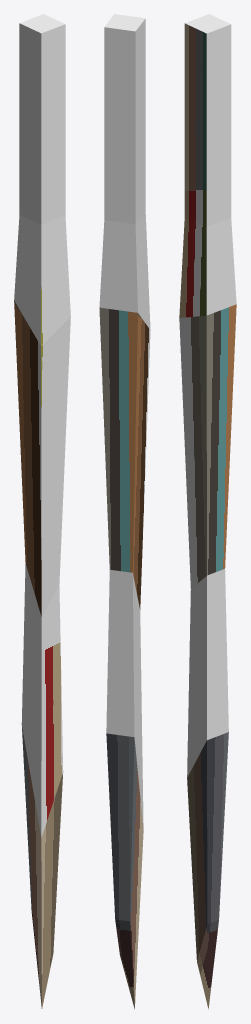
The model's file is LavaDecorationMediumLavaStream2.fbx.
3 views of the same model, side by side, from view 1: azimuth 90°, elevation 25°; view 2: azimuth 210°, elevation 25°; view 3: azimuth 270°, elevation 25° (orthographic).
Visible parts, largest first — view 1: LavaDecorationMediumLavaStream2; view 2: LavaDecorationMediumLavaStream2; view 3: LavaDecorationMediumLavaStream2.
Boxes of the visible parts, x1,y1,x2,y2 form: LavaDecorationMediumLavaStream2: (14, 14, 70, 1008); LavaDecorationMediumLavaStream2: (99, 14, 150, 1009); LavaDecorationMediumLavaStream2: (179, 14, 236, 1009).
Bounding box in the file's own units: 161 × 3066 × 161.
1 material, 1 textured.
